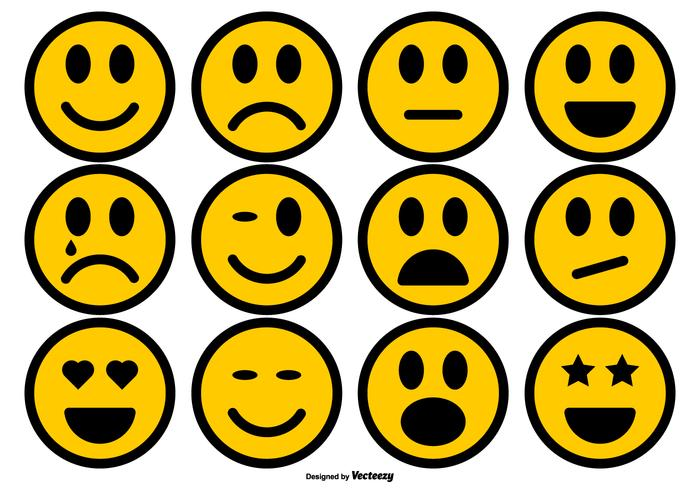triste: (47, 189, 152, 285), (392, 192, 475, 290), (223, 49, 311, 141), (401, 42, 464, 128)
